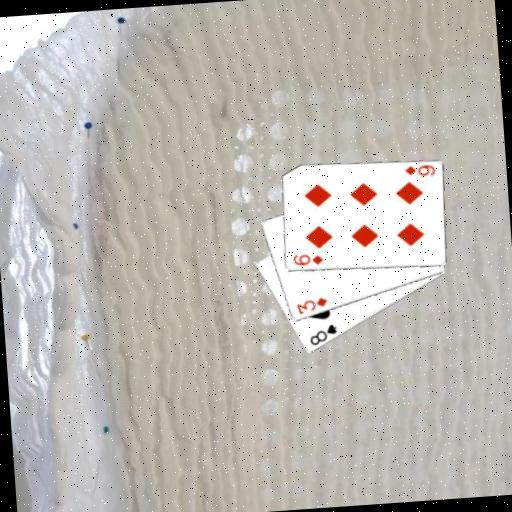3D: (293, 295, 329, 316)
6D: (290, 251, 325, 268), (402, 162, 437, 179)
8S: (306, 321, 340, 348)
